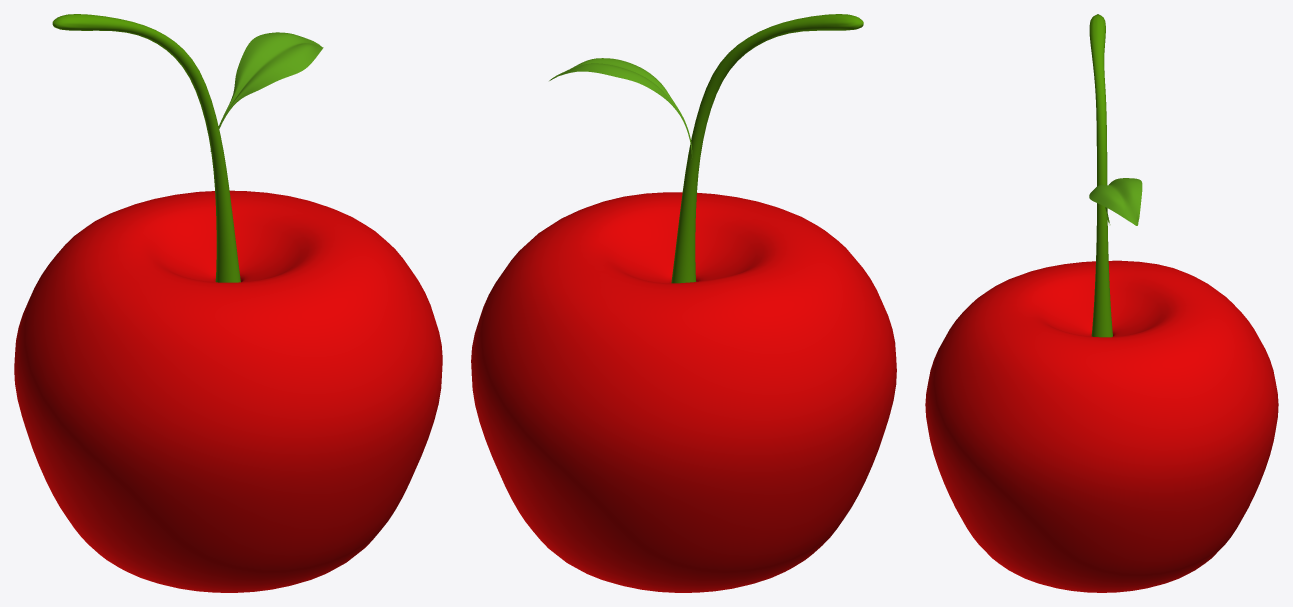
Rendered from cheery.fbx.
The picture shows the model from 3 angles, left to right: view 1: azimuth 30°, elevation 25°; view 2: azimuth 150°, elevation 25°; view 3: azimuth 270°, elevation 25°; orthographic projection. The views are drawn at different scales.
Visible parts, largest first — view 1: polySurface1; view 2: polySurface1; view 3: polySurface1.
Part boxes in pixels (box(x1,y1,x2,y2)): polySurface1: box(14, 14, 442, 592); polySurface1: box(471, 14, 896, 592); polySurface1: box(925, 14, 1278, 592).
Bounding box in the file's own units: 0.6597 × 0.9776 × 0.6593.
